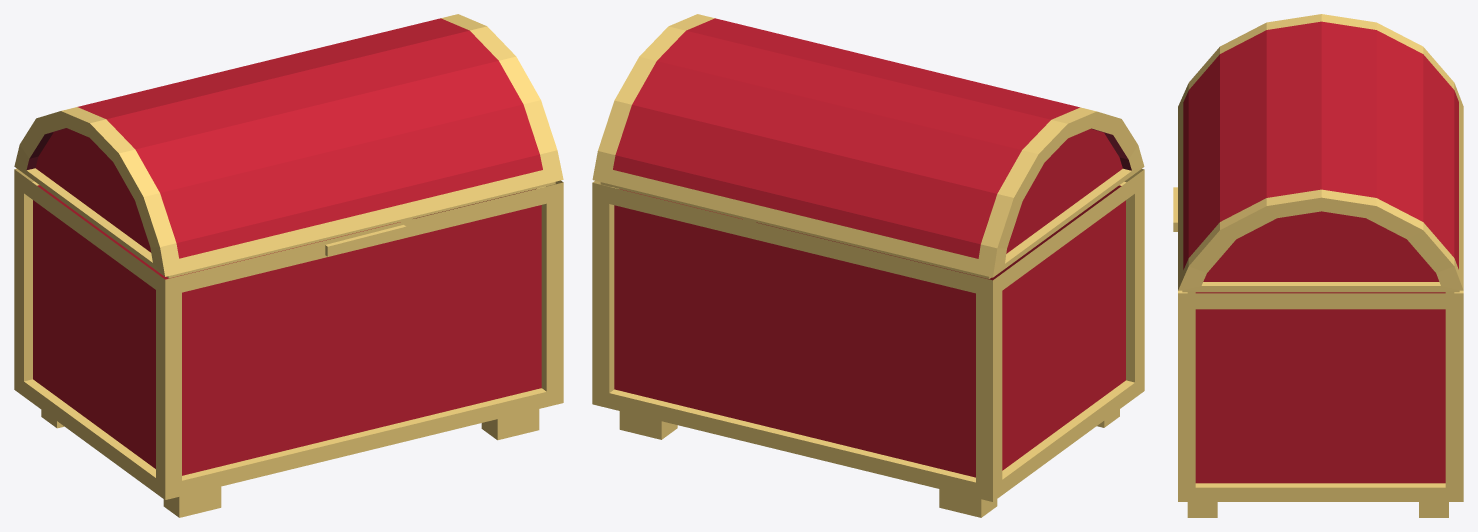
Rendered from chest_002_grp.fbx.
3 renders of one model, left to right at view 1: azimuth 30°, elevation 25°; view 2: azimuth 150°, elevation 25°; view 3: azimuth 270°, elevation 25°, orthographic. The views are drawn at different scales.
Parts seen in each view (by area): view 1: chest_002_grp; view 2: chest_002_grp; view 3: chest_002_grp.
Part boxes in pixels (x1,y1,x2,y2): chest_002_grp: [14, 14, 563, 517]; chest_002_grp: [592, 14, 1144, 517]; chest_002_grp: [1173, 14, 1463, 517].
Bounding box in the file's own units: 60 × 50 × 40.
